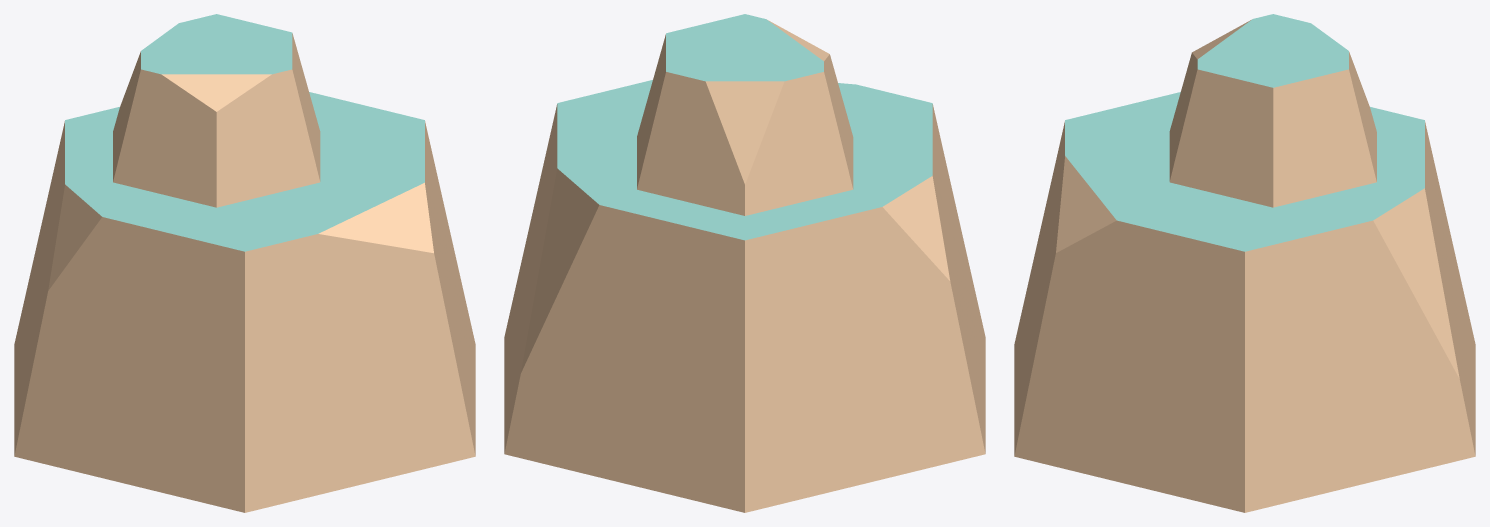
File: rock_small5.glb
3 views of the same model, side by side, from view 1: azimuth 30°, elevation 25°; view 2: azimuth 150°, elevation 25°; view 3: azimuth 270°, elevation 25° (orthographic). The views are drawn at different scales.
Parts seen in each view (by area): view 1: rock_small5; view 2: rock_small5; view 3: rock_small5.
Part boxes in pixels (x1=…): rock_small5: x1=14, y1=14, x2=475, y2=512; rock_small5: x1=504, y1=14, x2=985, y2=512; rock_small5: x1=1014, y1=14, x2=1475, y2=512.
Bounding box in the file's own units: 0.3608 × 0.2562 × 0.3125.
